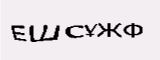Т: (45, 15, 60, 36)
Ф: (108, 15, 133, 52), (58, 13, 73, 41)
Х: (33, 20, 46, 41)
Ш: (71, 15, 105, 44)
